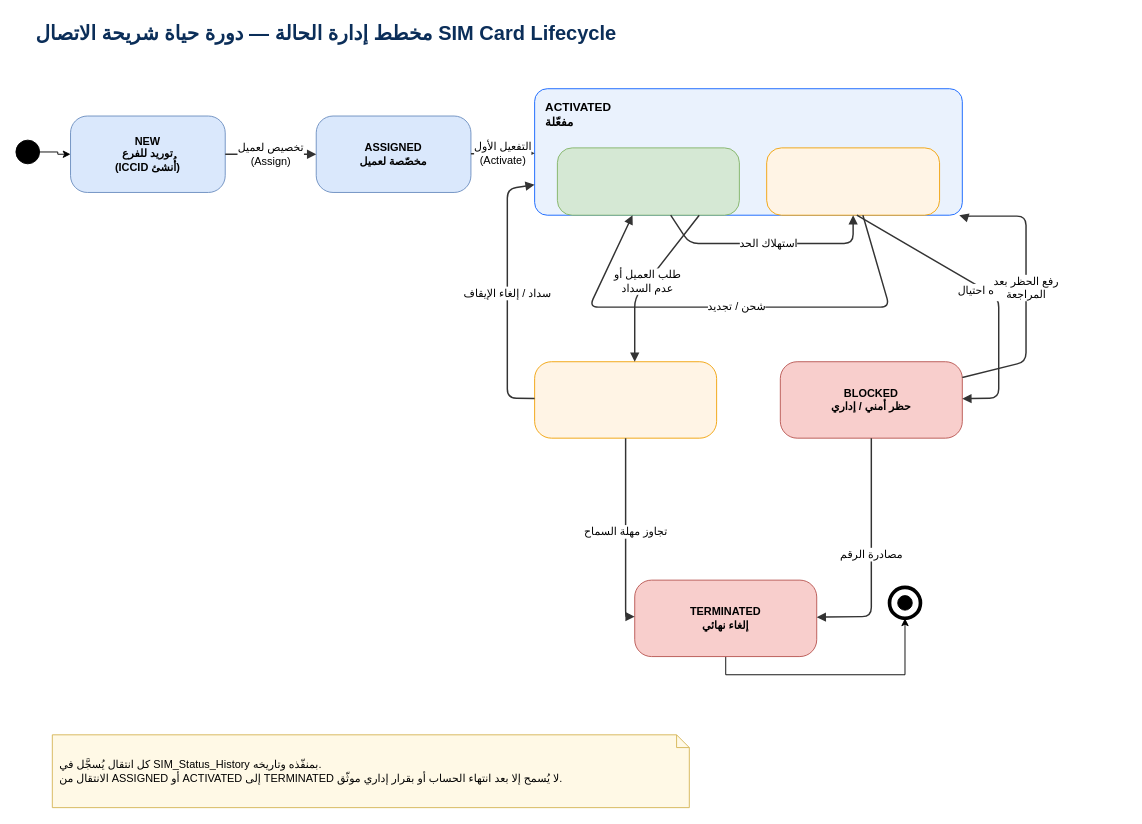
Some shapes in this 1142 by 824 pixel diagram are drawn without their labels. Here are the shapes that lost their labels. From the top down, the centre of each, then its label:
At [647,181]: "NormalUsage استهلاك عادي".
At [853,181]: "UsageRestricted الباقة مستنفدت".
At [625,399]: "SUSPENDED_TEMP إيقاف مؤقت".
